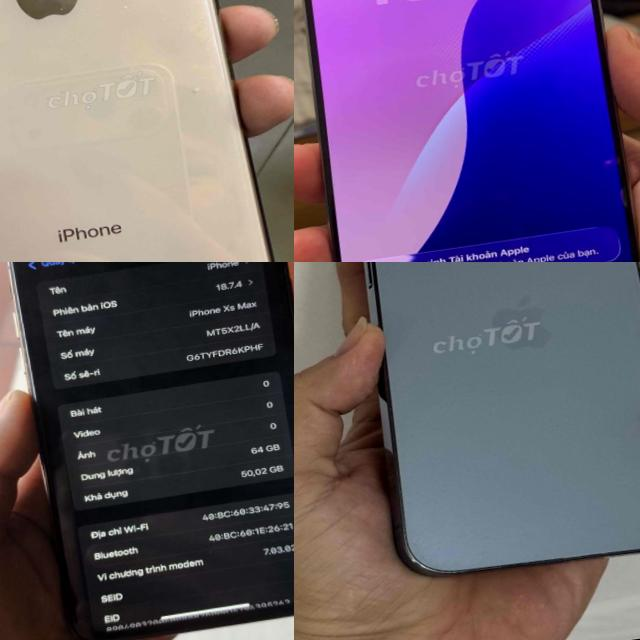gen_12_13: (343, 262, 640, 593)
gen_16: (302, 0, 640, 262)
gen_x_xs: (10, 262, 294, 640), (0, 0, 273, 262)
